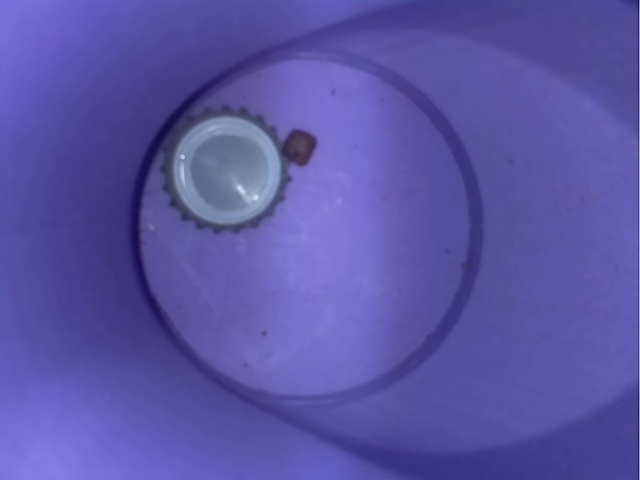capsule: (149, 104, 285, 243)
croquette: (279, 124, 321, 166)
